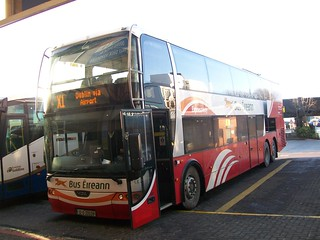bus: (37, 23, 284, 229)
